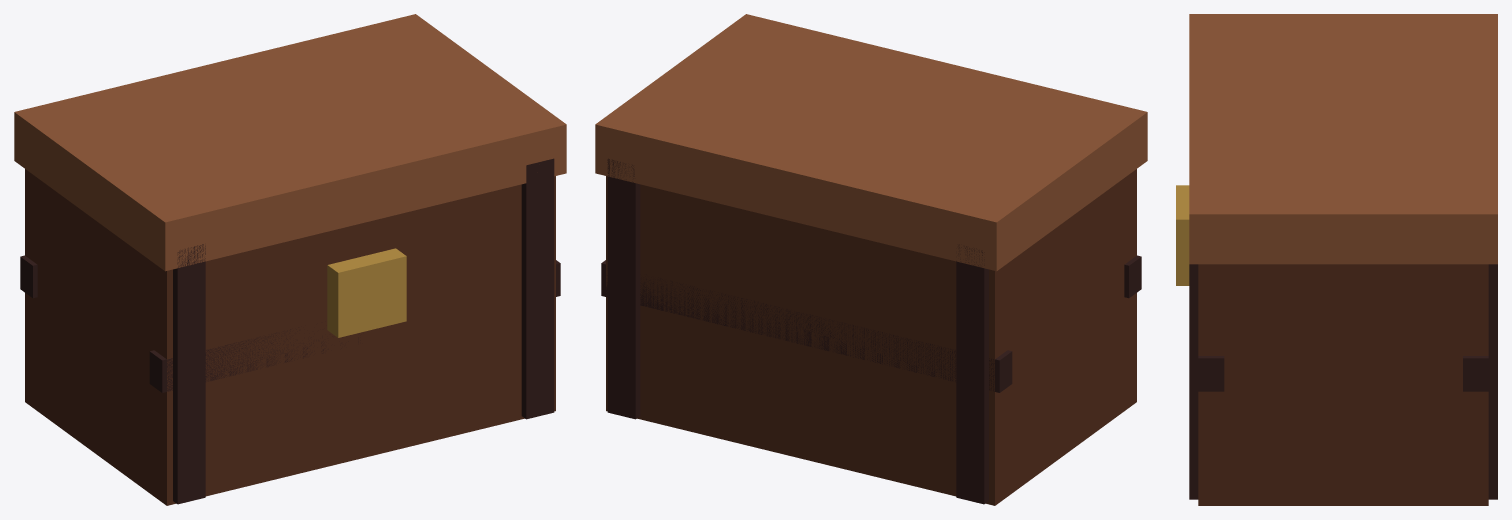
File: chest.obj
The picture shows the model from 3 angles, left to right: view 1: azimuth 30°, elevation 25°; view 2: azimuth 150°, elevation 25°; view 3: azimuth 270°, elevation 25°; orthographic projection. The views are drawn at different scales.
Parts seen in each view (by area): view 1: chest; view 2: chest; view 3: chest.
Boxes of the visible parts, x1,y1,x2,y2 form: chest: [14, 14, 566, 505]; chest: [595, 14, 1147, 505]; chest: [1176, 14, 1497, 505].
Size of the model in its own units: 1.29 by 0.885 by 0.876.
